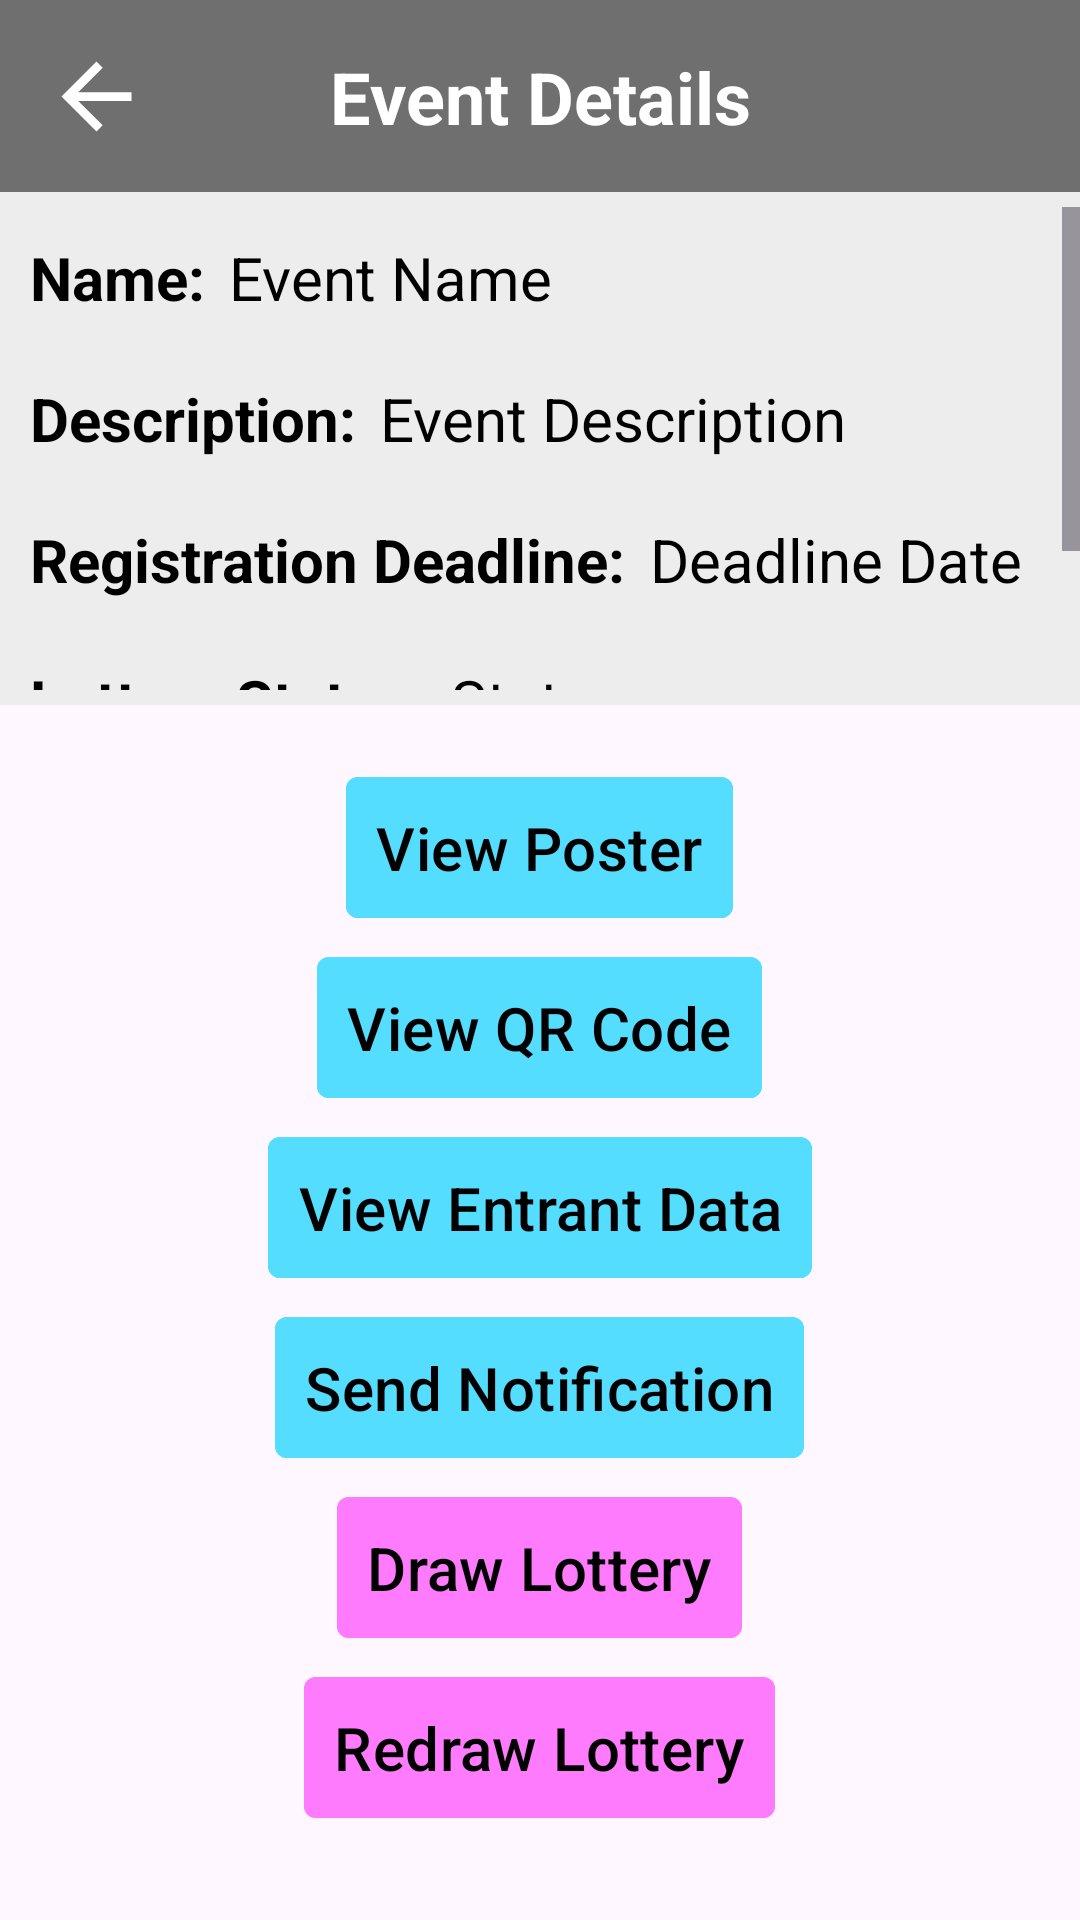

Icons on this 1080*1920 Android screen, each with its box as (x1, y1, x2, y2):
Go Back: (61, 61, 132, 132)
